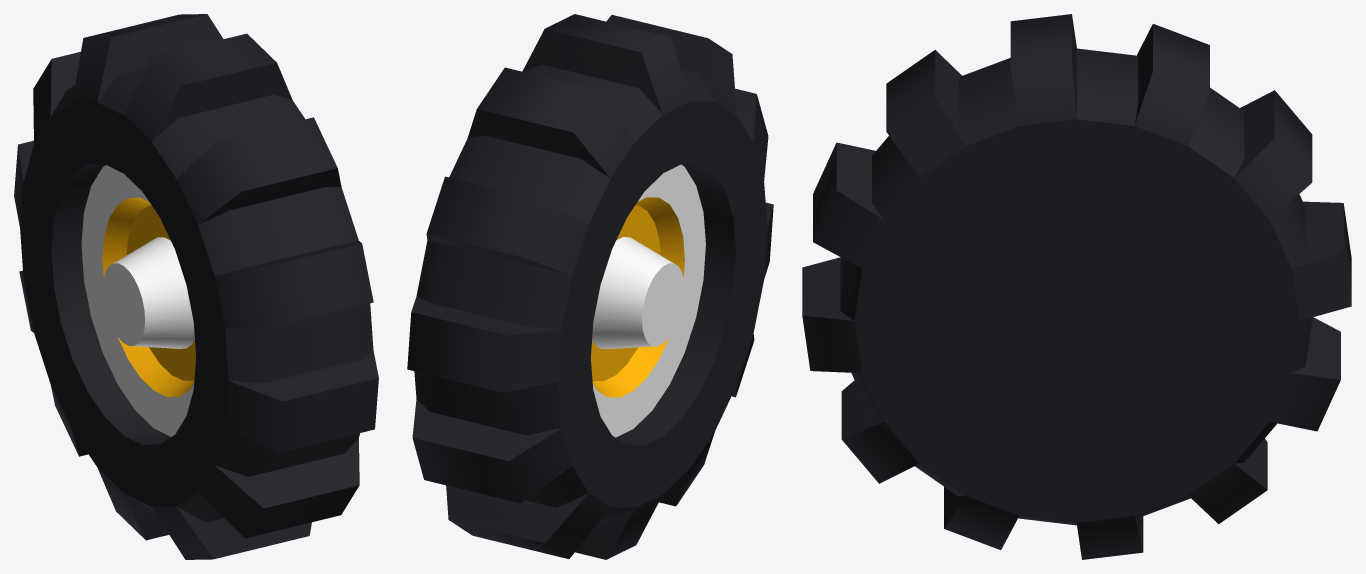
The model's file is OrangeJeepOpen_wheel.glb.
The picture shows the model from 3 angles, left to right: view 1: azimuth 30°, elevation 25°; view 2: azimuth 150°, elevation 25°; view 3: azimuth 270°, elevation 25°; orthographic projection. The views are drawn at different scales.
Parts seen in each view (by area): view 1: mergedBlocks(Clone); view 2: mergedBlocks(Clone); view 3: mergedBlocks(Clone).
Boxes of the visible parts, <box> form: mergedBlocks(Clone): <box>14,14,378,559</box>; mergedBlocks(Clone): <box>407,14,773,559</box>; mergedBlocks(Clone): <box>802,14,1351,559</box>.
Bounding box in the file's own units: 0.2163 × 0.7152 × 0.7152.
